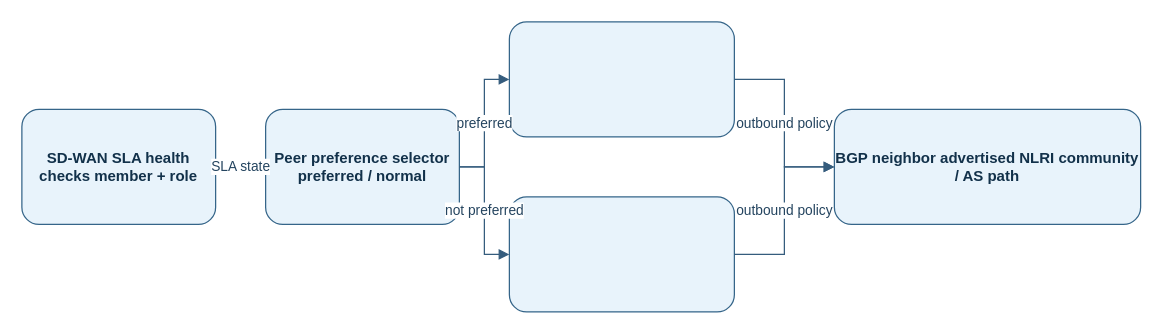
Some shapes in this 1163 by 334 pixel diagram are drawn without their labels. Here are the shapes that lost their labels. From the top down, the centre of each, then its label:
At (621,79): "Preferred map route-map-out- preferable".
At (621,254): "Fallback map route-map-out".
